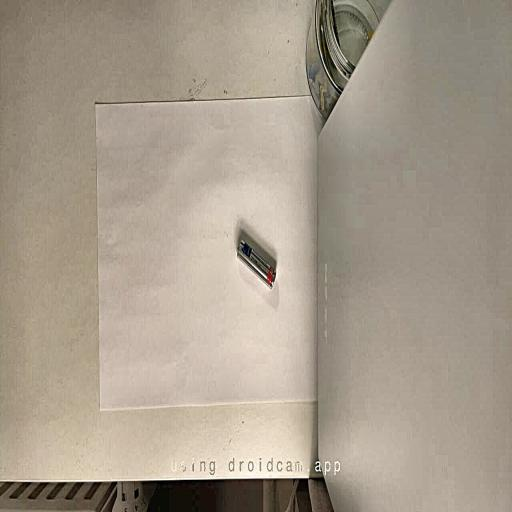RainbowAA: (238, 241, 275, 288)
